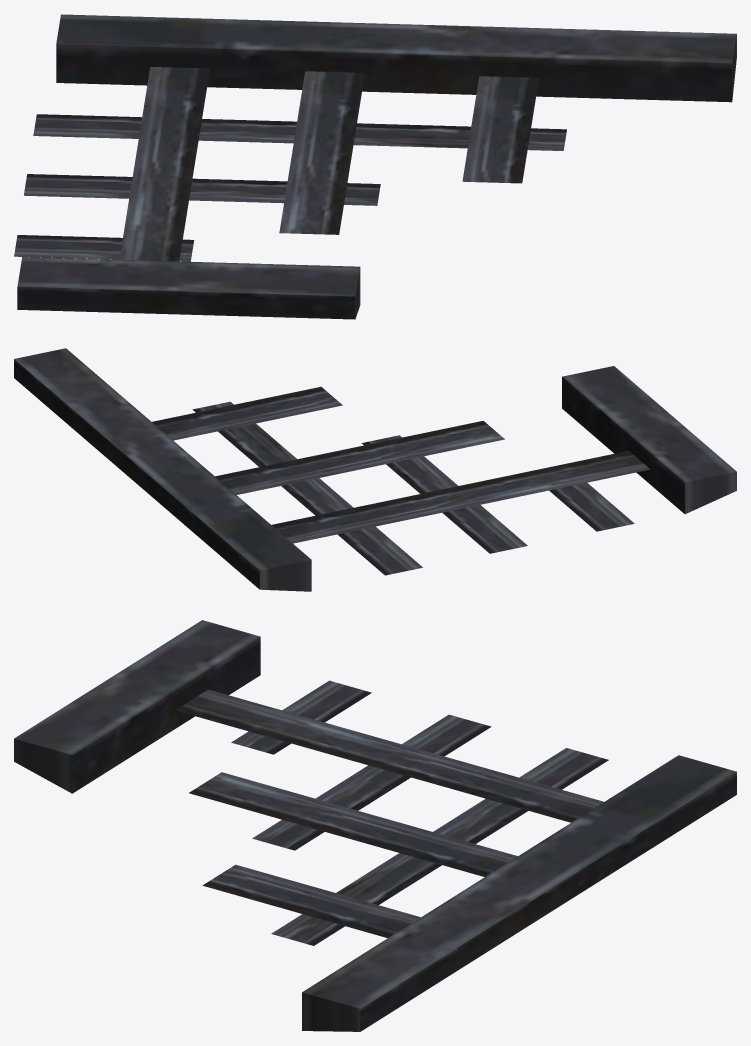
Rendered from tlfb_jinshu4.FBX.
3 renders of one model, top to bottom at view 1: azimuth 30°, elevation 25°; view 2: azimuth 150°, elevation 25°; view 3: azimuth 270°, elevation 25°, orthographic. The views are drawn at different scales.
Visible parts, largest first — view 1: tlfb_jinshu4; view 2: tlfb_jinshu4; view 3: tlfb_jinshu4.
Part boxes in pixels (<box>): tlfb_jinshu4: <box>14,14,736,319</box>; tlfb_jinshu4: <box>14,348,736,591</box>; tlfb_jinshu4: <box>14,620,736,1031</box>.
Bounding box in the file's own units: 94.6 × 4.39 × 74.34.
